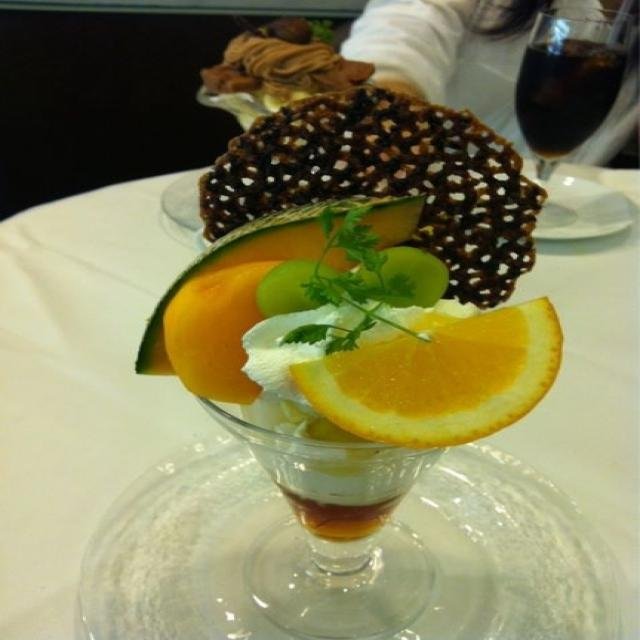蛋糕甜品: (95, 40, 601, 602)
